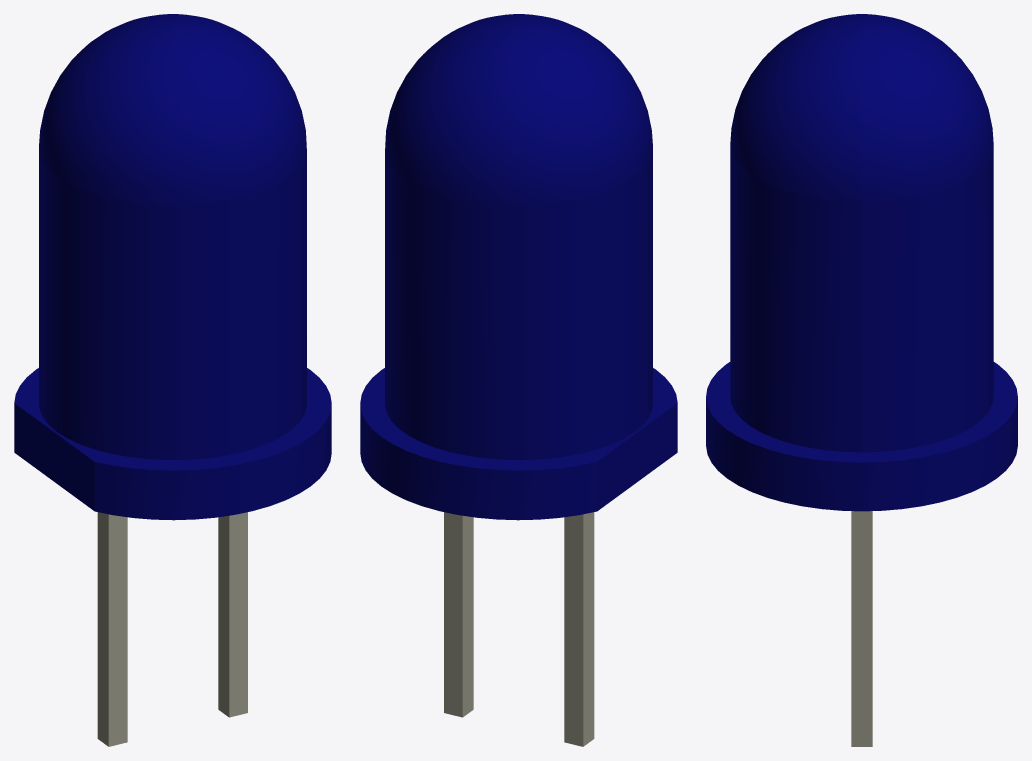
File: led-5mm-blue.glb
The picture shows the model from 3 angles, left to right: view 1: azimuth 30°, elevation 25°; view 2: azimuth 150°, elevation 25°; view 3: azimuth 270°, elevation 25°; orthographic projection.
Bounding box in the file's own units: 5.4 × 14.1 × 5.8.
